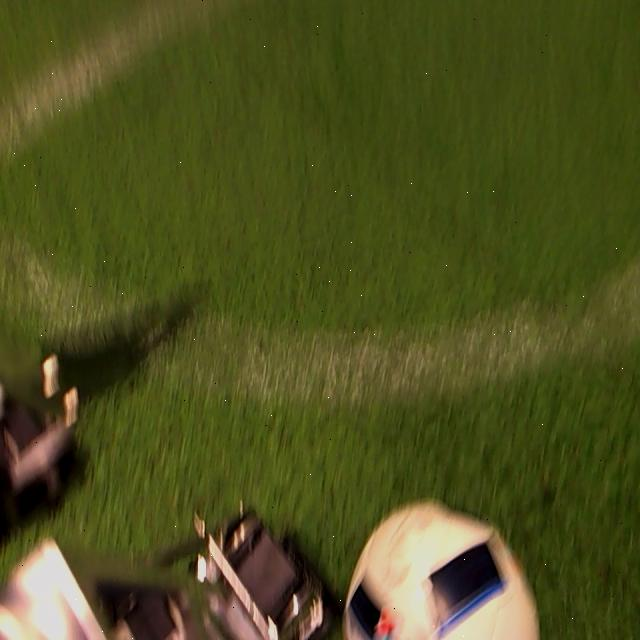ball: (342, 504, 543, 640)
